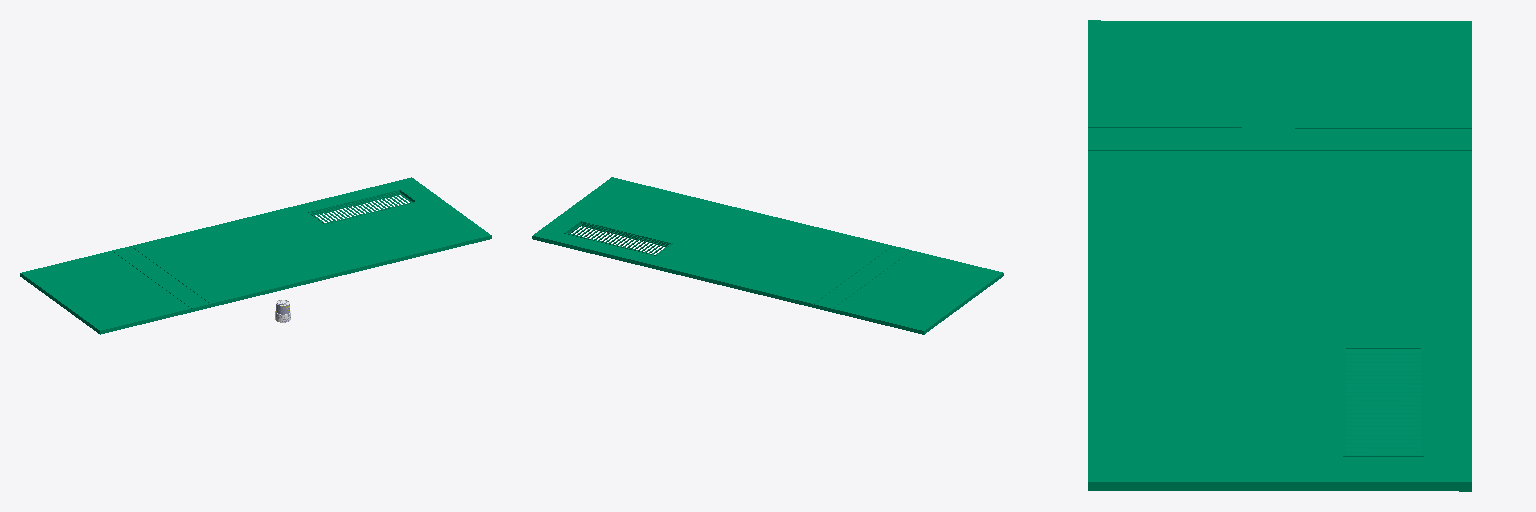
robot.urdf — right-push-door:
<robot name="right-push-door">
	<link name="base" />
	<link name="link_0">
		<visual name="out-frame">
			<origin xyz="0 0 0" />
			<geometry>
				<mesh filename="texture_dae/frame.dae" scale="0.9795504098760583 0.9795504098760583 0.9795504098760583" />
			</geometry>
		</visual>
		<collision>
			<origin xyz="0 0 0" />
			<geometry>
				<mesh filename="texture_dae/frame.dae" scale="0.9795504098760583 0.9795504098760583 0.9795504098760583" />
			</geometry>
		</collision>
	</link>
	<joint name="joint_0" type="fixed">
		<origin rpy="1.570796326794897 0 -1.570796326794897" xyz="0 0 0" />
		<child link="link_0" />
		<parent link="base" />
	</joint>
	<link name="link_1">
		<visual name="surf-board">
			<origin xyz="0.3173729390289638 -0.899574016051584 0" />
			<geometry>
				<mesh filename="texture_dae/board.dae" scale="0.9795504098760583 0.9795504098760583 0.9795504098760583" />
			</geometry>
		</visual>
		<collision>
			<origin xyz="0.3173729390289638 -0.899574016051584 0" />
			<geometry>
				<mesh filename="texture_dae/board.dae" scale="0.9795504098760583 0.9795504098760583 0.9795504098760583" />
			</geometry>
		</collision>
	</link>
	<joint name="joint_1" type="revolute">
		<origin xyz="-0.3173729390289638 0.899574016051584 0" />
		<axis xyz="0 -1 0" />
		<child link="link_1" />
		<parent link="link_0" />
		<limit lower="-1.5079644737231006" upper="-0.0" />
	</joint>
	<link name="link_2">
		<visual name="handle">
			<origin xyz="0 0 0" />
			<geometry>
				<mesh filename="texture_dae/9962040.dae" scale="0.9806814481372474 0.9806814481372474 0.9806814481372474" />
			</geometry>
		</visual>
		<collision>
			<origin xyz="0 0 0" />
			<geometry>
				<mesh filename="texture_dae/9962040.dae" scale="0.9806814481372474 0.9806814481372474 0.9806814481372474" />
			</geometry>
		</collision>
	</link>
	<joint name="joint_2" type="revolute">
		<origin xyz="0.5543959143279553 -1.0029408909584947 0.011035427115748911" />
		<child link="link_2" />
		<parent link="link_1" />
		<axis xyz="0 0 1" />
		<limit lower="0" upper="0" />
	</joint>
</robot>

--- What the picture shows (computed from the rendered views, not written in the file) ---
3 views of the same robot in one strip: view 1: azimuth 30°, elevation 25°; view 2: azimuth 150°, elevation 25°; view 3: azimuth 270°, elevation 25° (orthographic).
Model right-push-door with 4 links and 3 joints (2 revolute, 1 fixed), rooted at base, posed all joints at 0.
Links seen in each view (by area): view 1: link_1; view 2: link_1; view 3: link_1.
Boxes of the visible links, left/top/right/bottom form: link_1: left=20, top=177, right=491, bottom=334; link_1: left=532, top=177, right=1003, bottom=334; link_1: left=1088, top=20, right=1471, bottom=491.
Size in the robot's own frame: 1.8 by 0.6344 by 0.1908 metres.
2 mesh visuals loaded from 3 distinct referenced files (2 Collada DAE); not drawn: 1 (reference not matched to a file when rendering).
